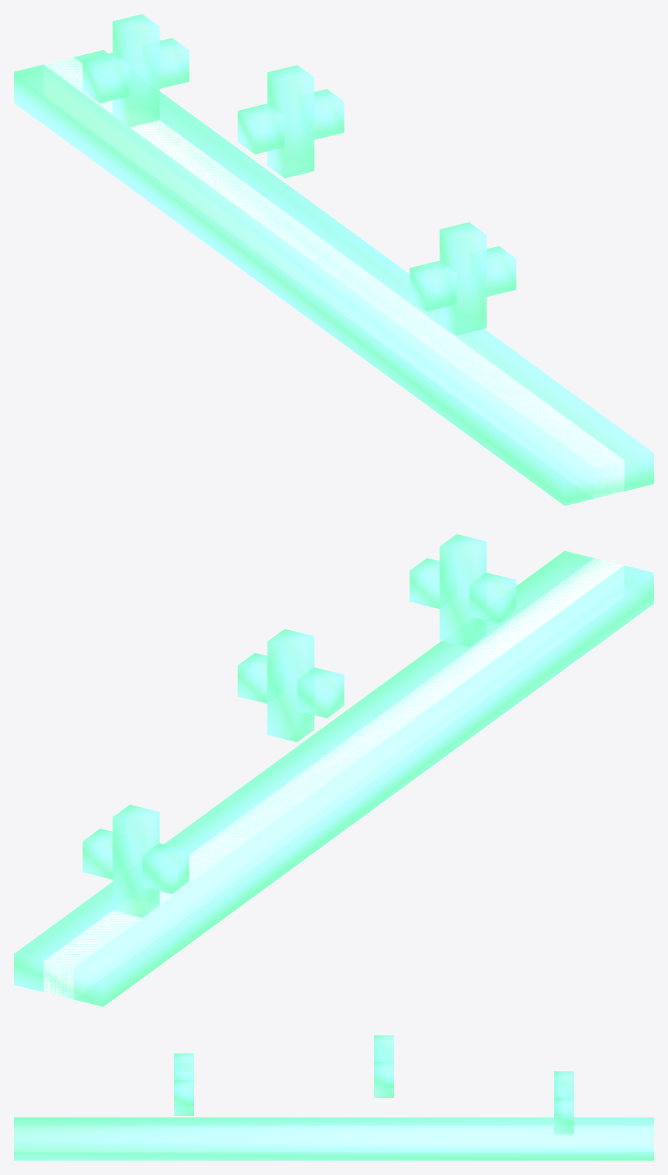
Rendered from healing-beam.glb.
The picture shows the model from 3 angles, top to bottom: view 1: azimuth 30°, elevation 25°; view 2: azimuth 150°, elevation 25°; view 3: azimuth 270°, elevation 25°; orthographic projection. The views are drawn at different scales.
Parts seen in each view (by area): view 1: layer.glow, layer.core; view 2: layer.glow, layer.core; view 3: layer.glow, layer.core.
Part boxes in pixels (x1,y1,x2,y2): layer.glow: (14,14,653,505); layer.core: (44,57,624,498); layer.glow: (14,534,653,1006); layer.core: (43,558,623,999); layer.glow: (14,1035,653,1160); layer.core: (14,1126,653,1151).
Size of the model in its own units: 0.0938 by 0.1875 by 1.
